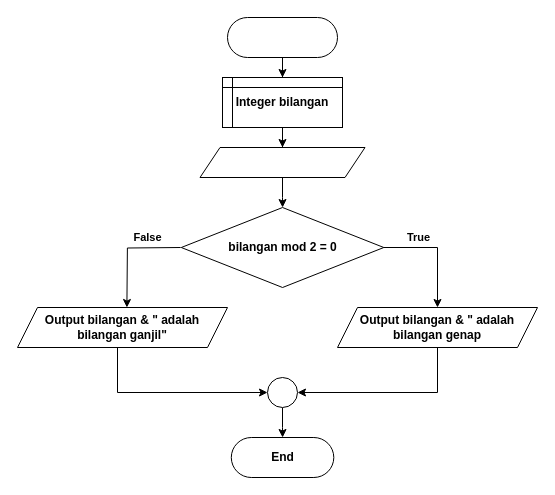
The diagram is 555 pixels wide and 495 high, and some of its shapes have lost their labels. The box of each missing label's shape, as (x1, y1, x2, y2) in pixels:
Input bilangan: (199, 146, 365, 178)
Main: (226, 16, 338, 58)
